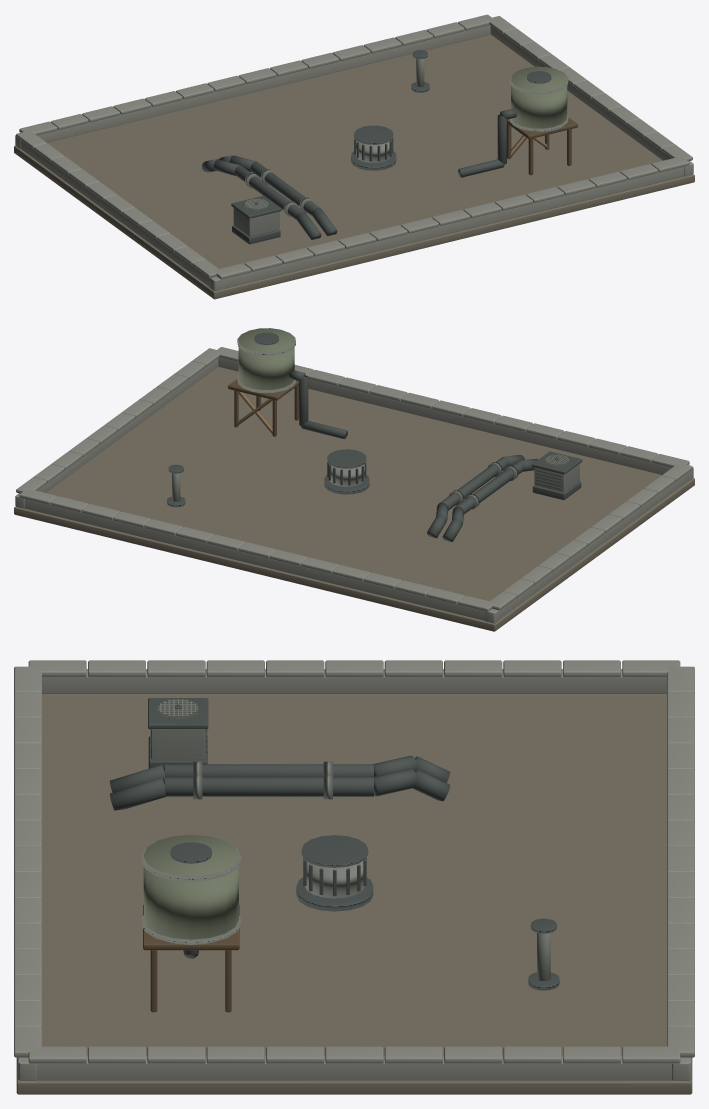
Rendered from Repair_Roof.fbx.
3 renders of one model, top to bottom at view 1: azimuth 30°, elevation 25°; view 2: azimuth 150°, elevation 25°; view 3: azimuth 270°, elevation 25°, orthographic. The views are drawn at different scales.
Parts seen in each view (by area): view 1: Repair_Roof; view 2: Repair_Roof; view 3: Repair_Roof.
Part boxes in pixels (x1,y1,x2,y2): Repair_Roof: (14, 14, 694, 299); Repair_Roof: (14, 328, 694, 631); Repair_Roof: (14, 660, 694, 1094).
Size of the model in its own units: 1443 by 268 by 1043.
